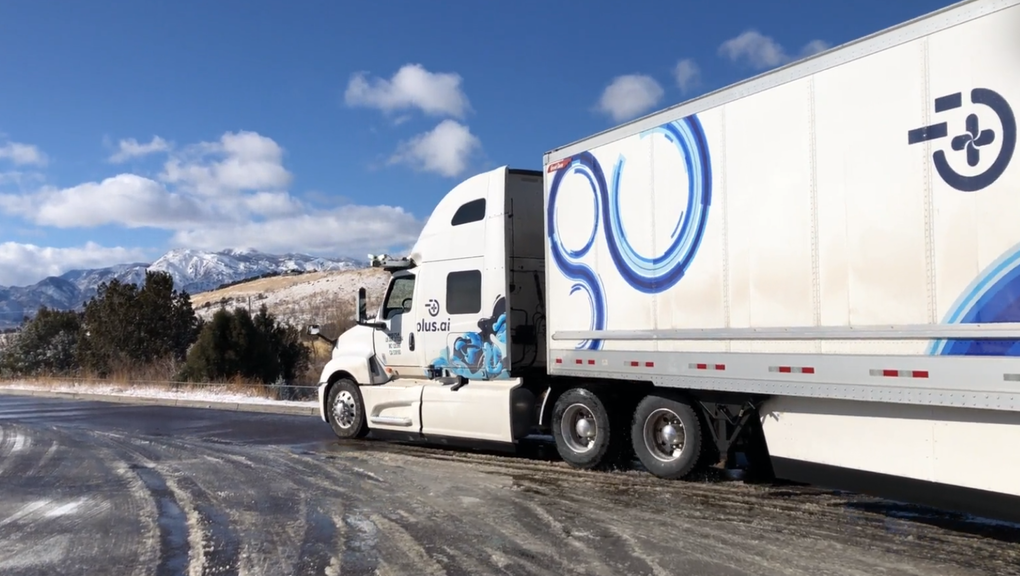truck: (224, 103, 1015, 534)
